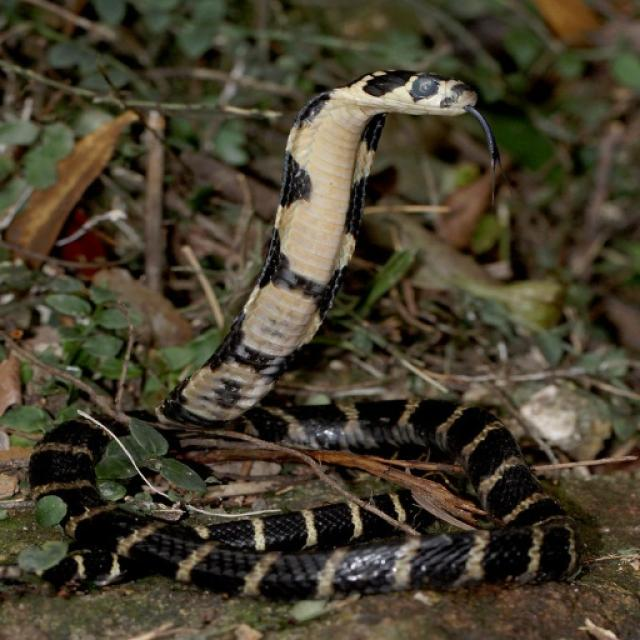snake: (28, 60, 621, 626)
